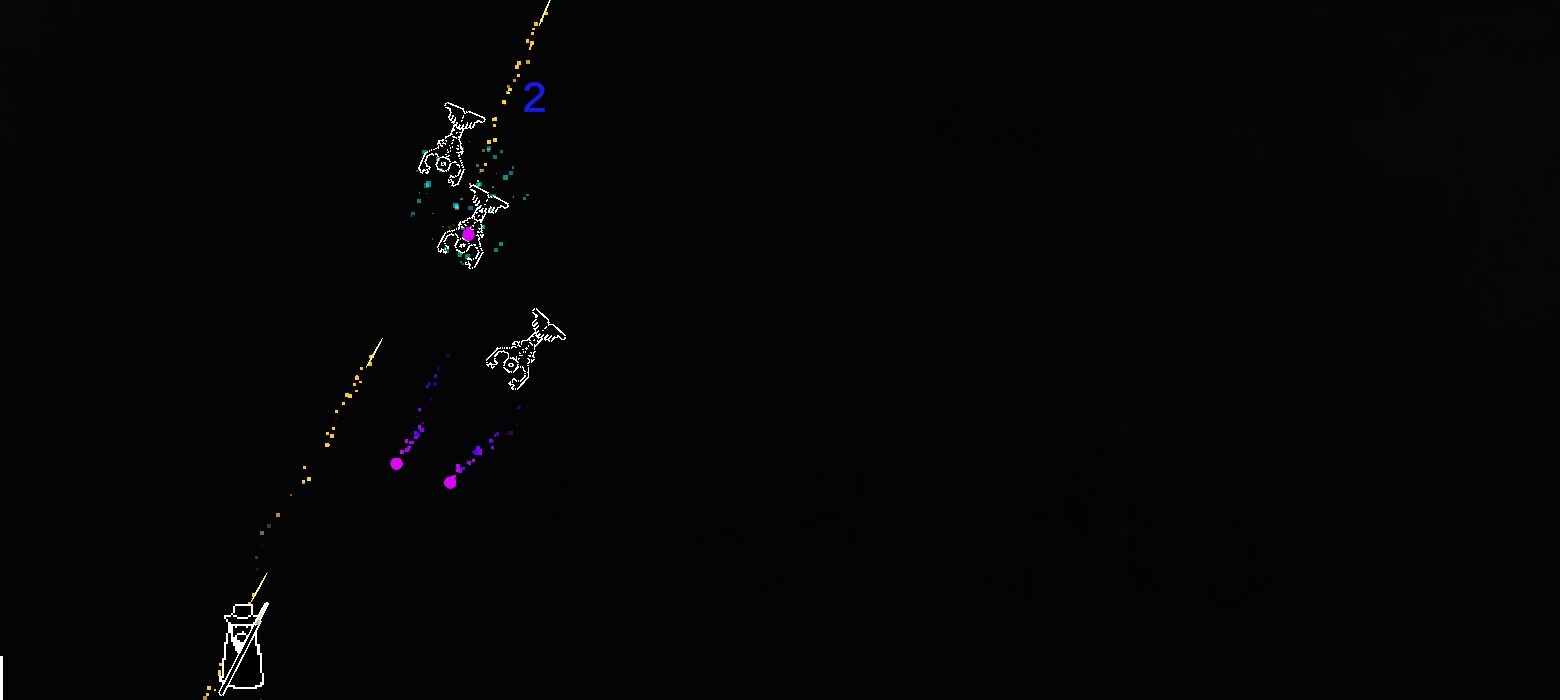enemy: (485, 306, 567, 390), (436, 185, 509, 269), (417, 101, 485, 187)
